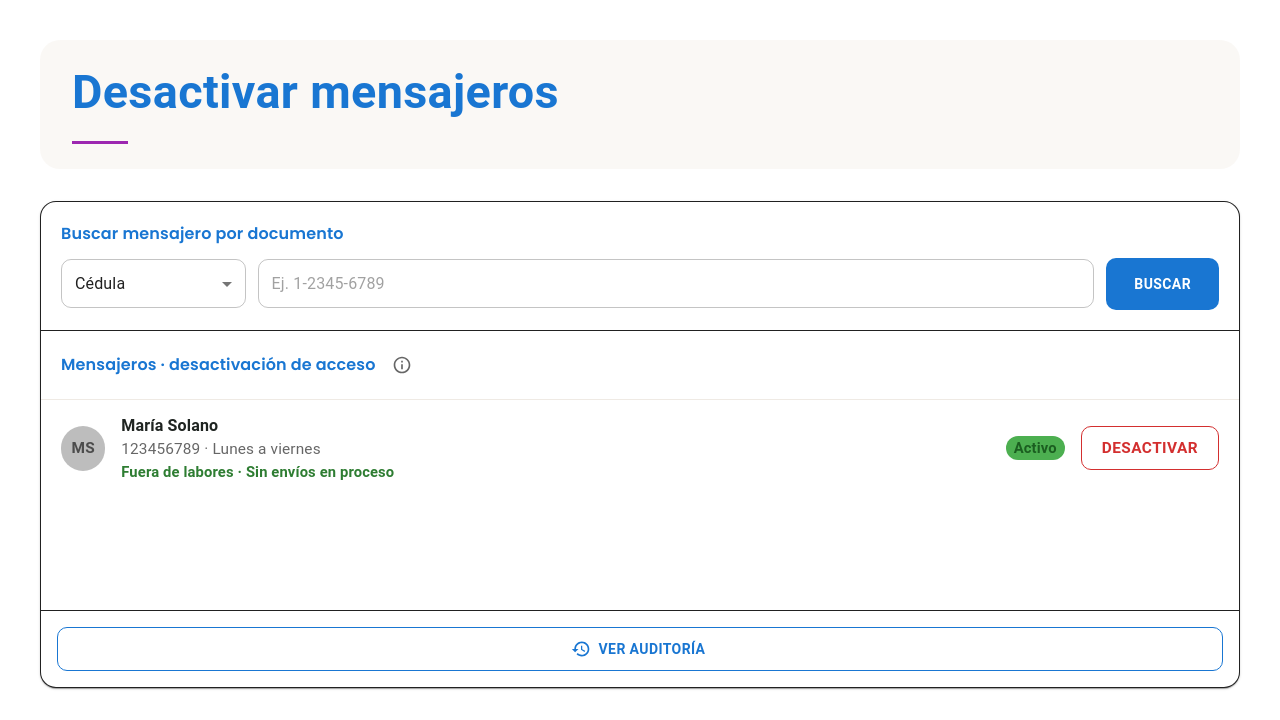
it: MessengerFleetList (HU-005 desactivar mensajero) › lista todas las desactivaciones guardadas, no solo la última
Expected: the button "Desactivar" is shown, [1081,426,1219,470]
Click the button "Ver auditoría": [640, 649] box [57,627,1223,671]
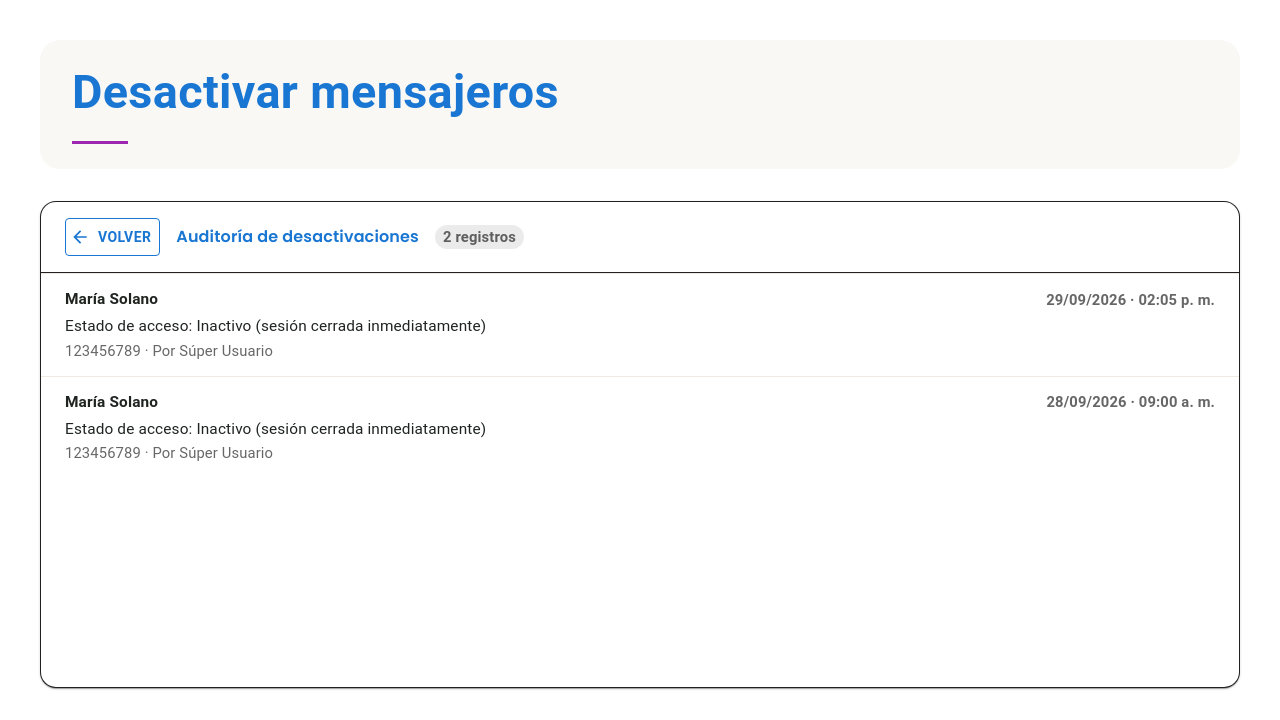
Expected: the text "Por Súper Usuario" is shown 2 times, [152,342,273,360]; [152,444,273,462]
Expected: the text "2 registros" is shown, [443,228,516,246]
